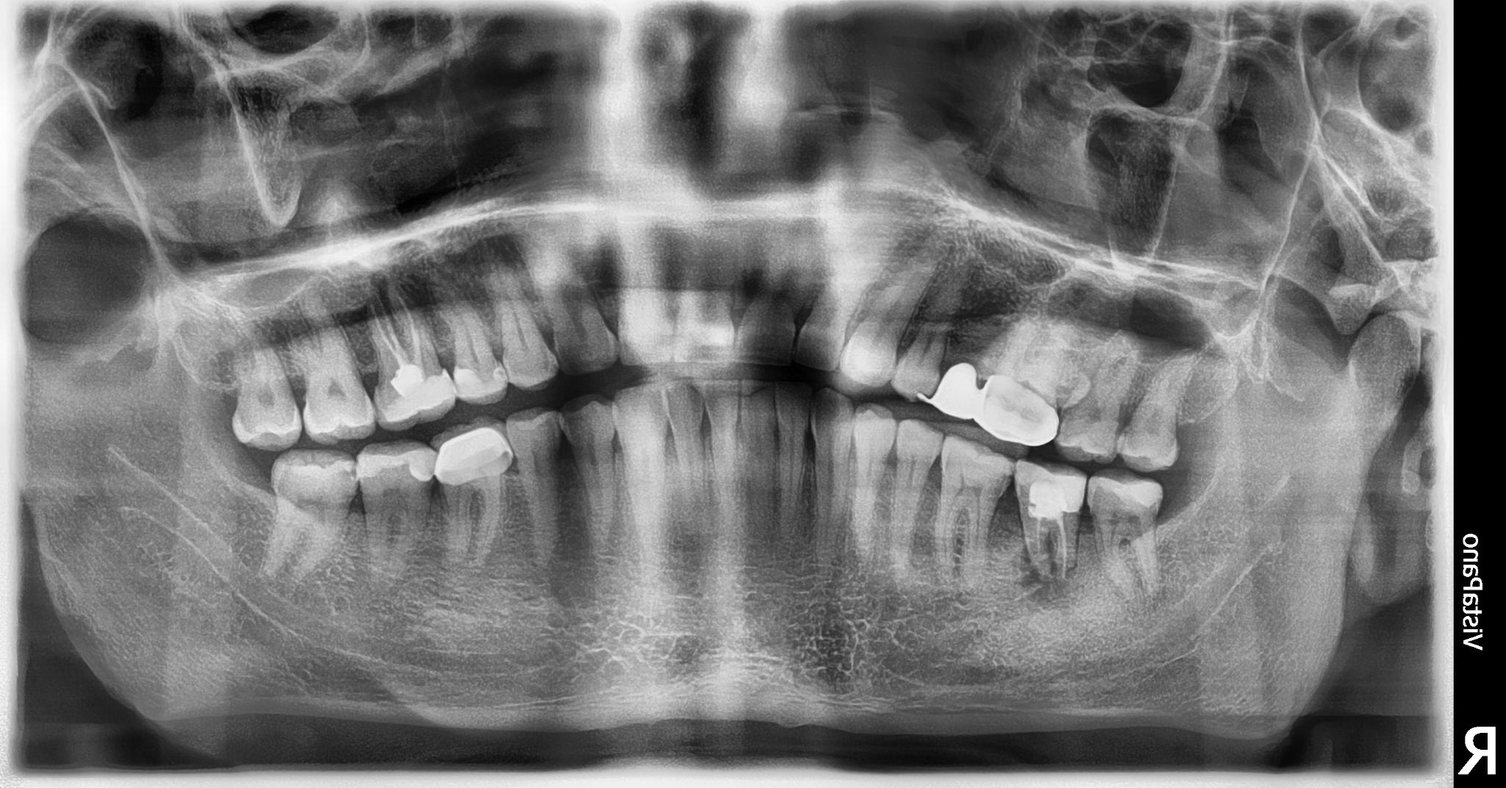Premolars: (569, 242, 1506, 692), (571, 240, 1506, 689), (544, 239, 1488, 663), (186, 246, 543, 696), (302, 215, 835, 508), (266, 200, 735, 482)
